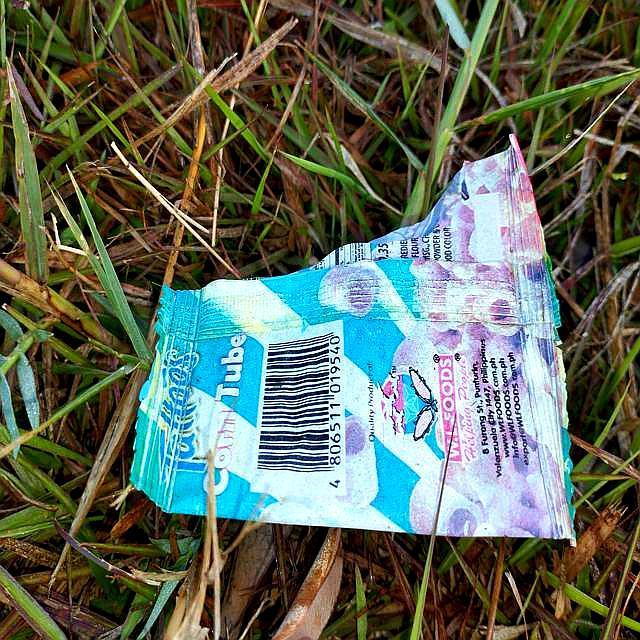Non-biodegradable: (128, 134, 577, 544)
